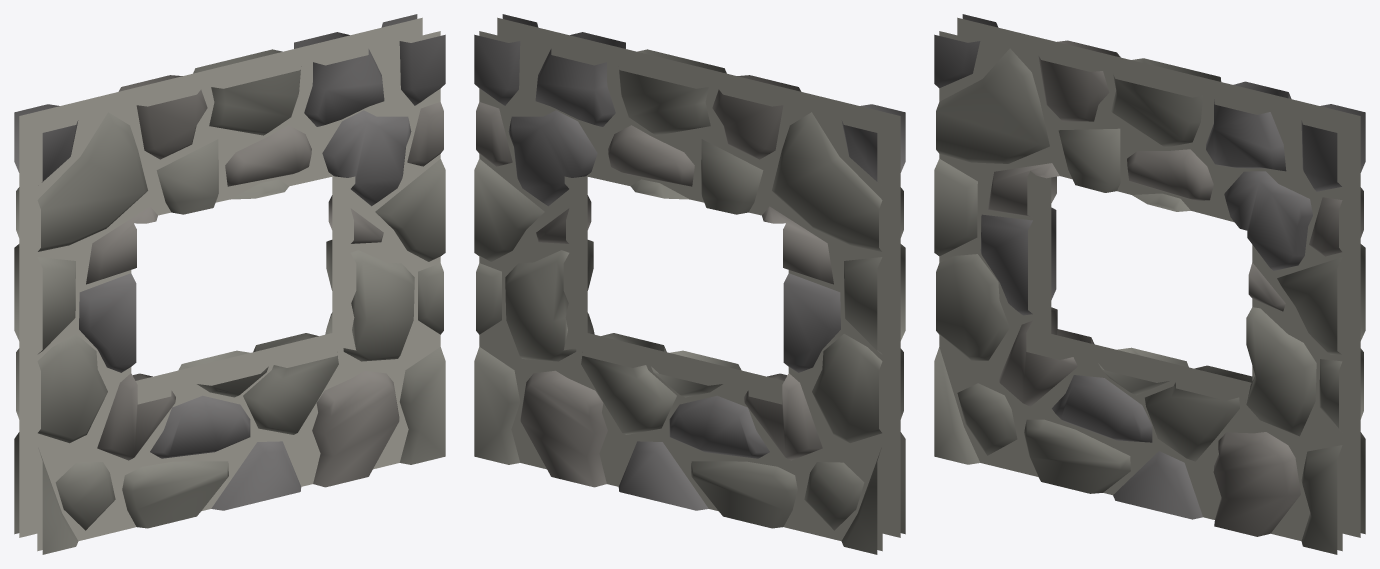
File: rpgpp_ag_wall_04_3x3_window_01a.fbx
3 renders of one model, left to right at view 1: azimuth 30°, elevation 25°; view 2: azimuth 150°, elevation 25°; view 3: azimuth 330°, elevation 25°, orthographic.
Visible parts, largest first — view 1: rpgpp_ag_wall_04_3x3_window_01a; view 2: rpgpp_ag_wall_04_3x3_window_01a; view 3: rpgpp_ag_wall_04_3x3_window_01a.
Boxes of the visible parts, <box> form: rpgpp_ag_wall_04_3x3_window_01a: <box>14,14,445,554</box>; rpgpp_ag_wall_04_3x3_window_01a: <box>474,14,905,554</box>; rpgpp_ag_wall_04_3x3_window_01a: <box>934,14,1365,554</box>.
Bounding box in the file's own units: 3 × 3 × 0.404.
